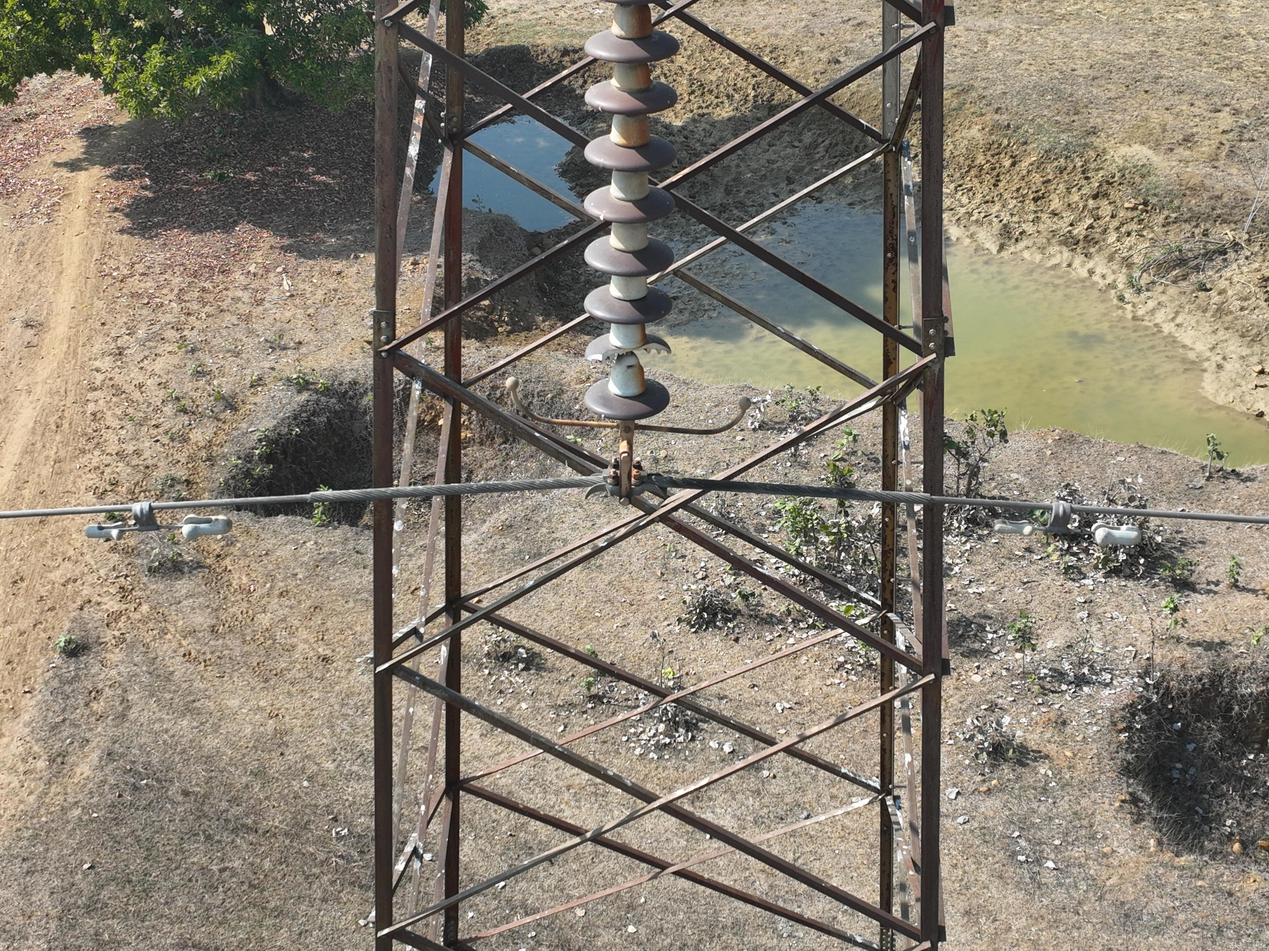broken_insulator: (573, 322, 676, 375)
